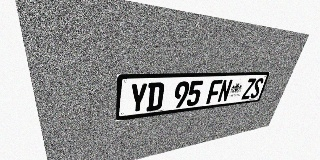5: (186, 80, 203, 107)
9: (172, 81, 190, 108)
D: (146, 82, 165, 112)
F: (206, 80, 223, 104)
N: (217, 79, 233, 103)
S: (249, 78, 264, 99)
Y: (129, 83, 148, 114)
Z: (241, 78, 256, 100)
